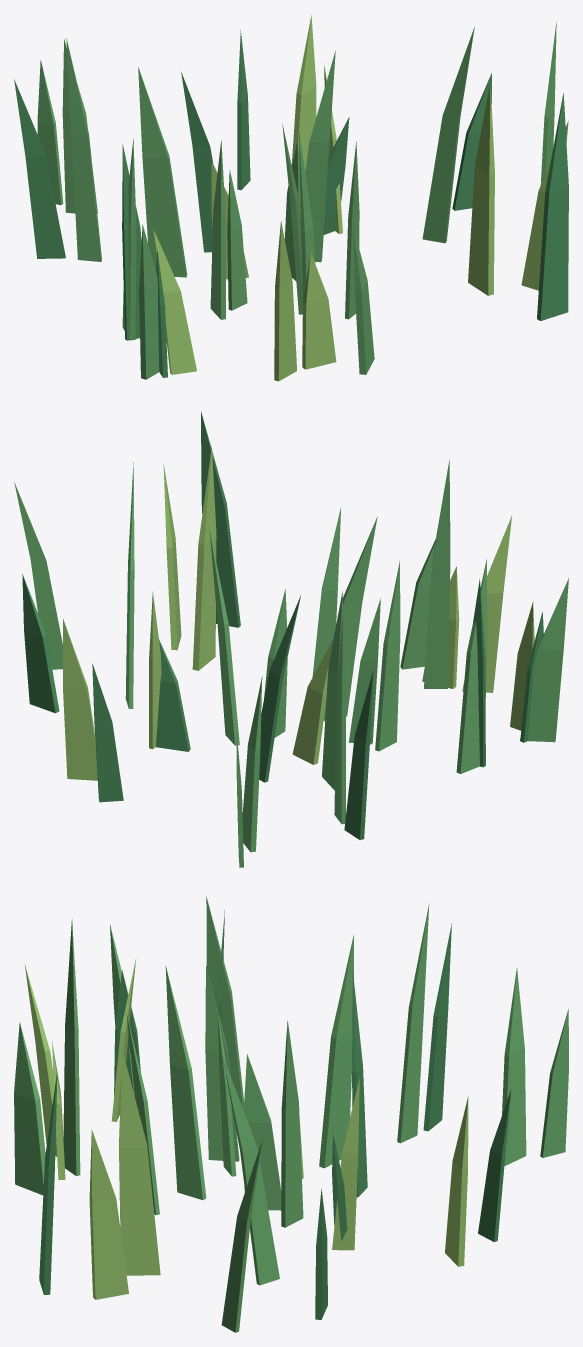
Rendered from grass_clump_c.glb.
The picture shows the model from 3 angles, top to bottom: view 1: azimuth 30°, elevation 25°; view 2: azimuth 150°, elevation 25°; view 3: azimuth 270°, elevation 25°; orthographic projection. The views are drawn at different scales.
Visible parts, largest first — view 1: Grass_1.002, Grass_3.002, Grass_4.002, Grass_2.002; view 2: Grass_2.002, Grass_1.002, Grass_4.002, Grass_3.002; view 3: Grass_2.002, Grass_3.002, Grass_4.002, Grass_1.002.
Part boxes in pixels (x1=…): Grass_1.002: x1=14, y1=30, x2=568, y2=377; Grass_3.002: x1=37, y1=27, x2=474, y2=374; Grass_4.002: x1=153, y1=14, x2=568, y2=381; Grass_2.002: x1=62, y1=21, x2=556, y2=379; Grass_2.002: x1=14, y1=482, x2=568, y2=852; Grass_1.002: x1=22, y1=411, x2=543, y2=839; Grass_4.002: x1=63, y1=446, x2=534, y2=780; Grass_3.002: x1=125, y1=459, x2=450, y2=867; Grass_2.002: x1=110, y1=896, x2=526, y2=1332; Grass_3.002: x1=14, y1=904, x2=568, y2=1285; Grass_4.002: x1=24, y1=957, x2=468, y2=1299; Grass_1.002: x1=39, y1=910, x2=511, y2=1319.
Size of the model in its own units: 1.52 by 0.7003 by 1.43.
